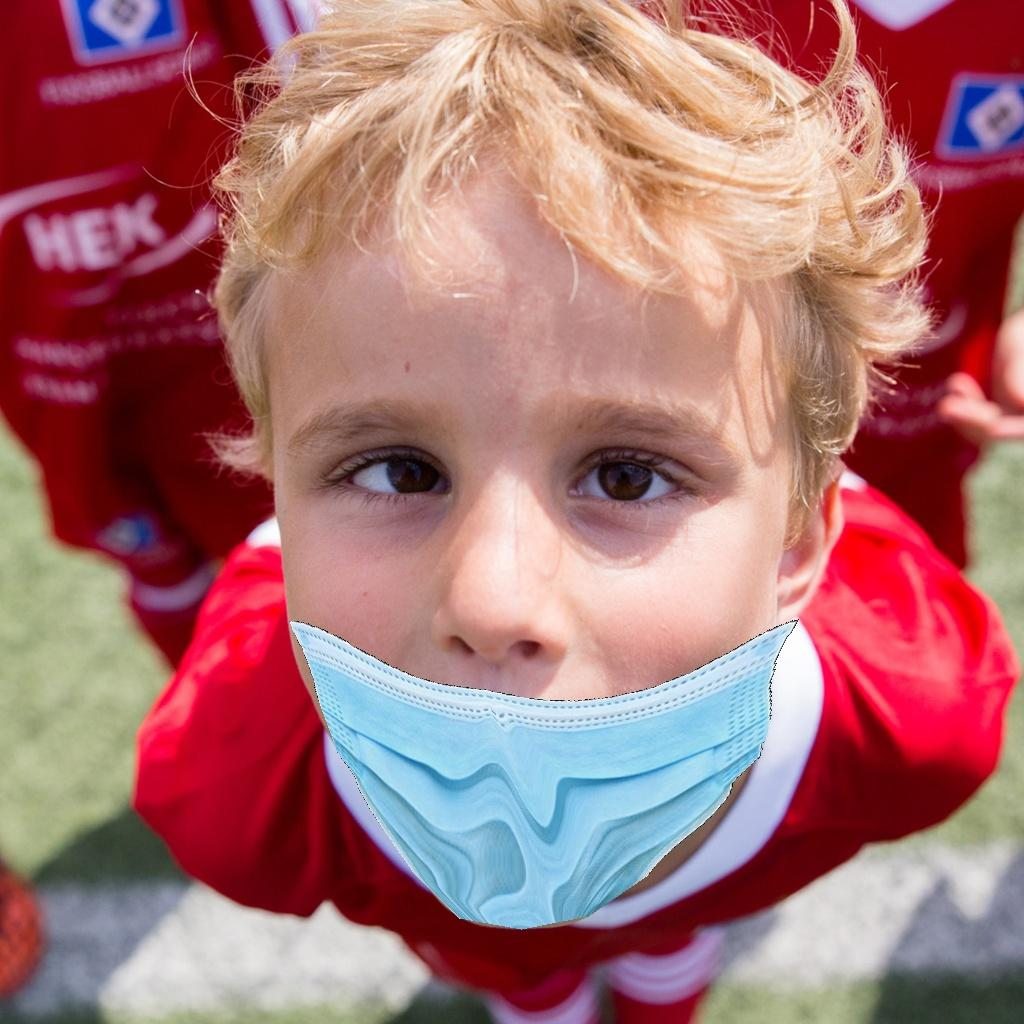Máscara Incorreta: (280, 270, 795, 893)
